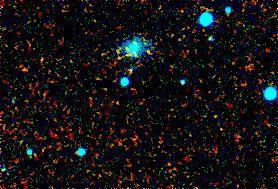star: (8, 53, 38, 83)
